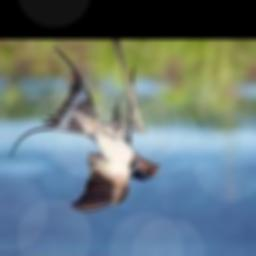Swallow: (10, 45, 159, 211)
